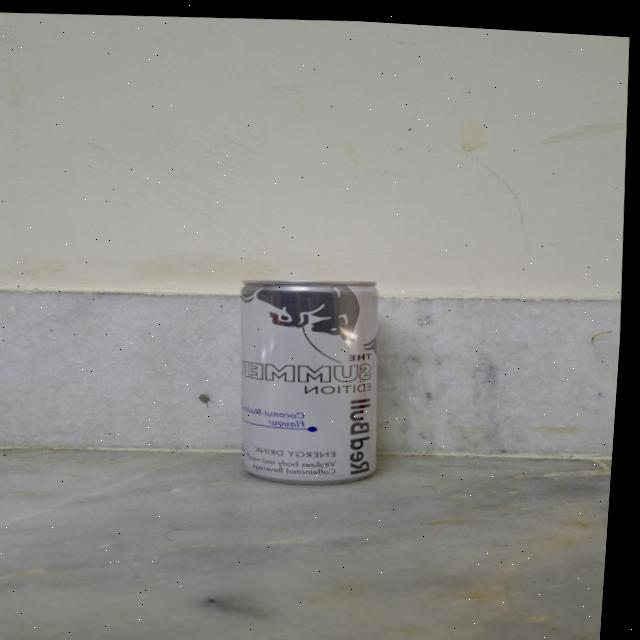Redbull Summer Edition: (223, 259, 396, 494)
